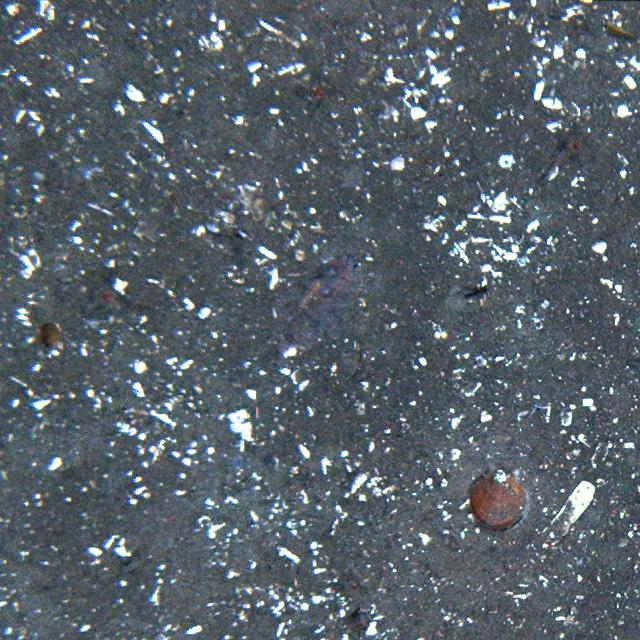flatfish: (234, 250, 358, 370)
